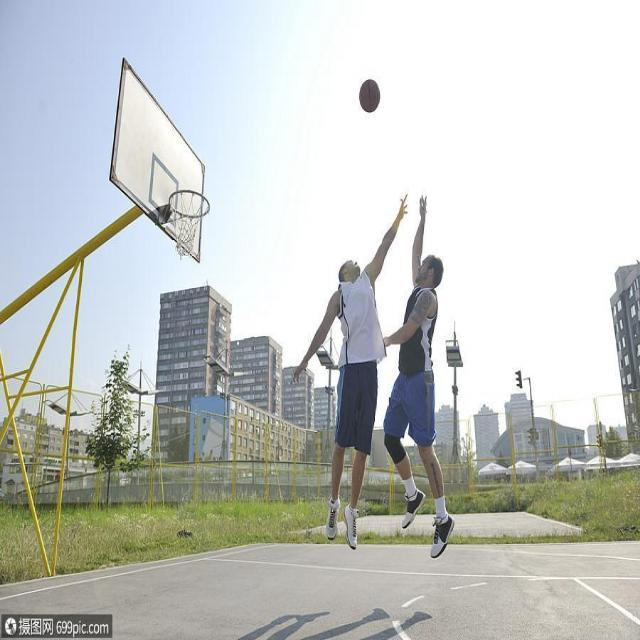rim: (357, 76, 384, 116)
